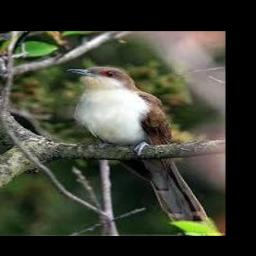Cuckoo: (65, 67, 207, 222)
